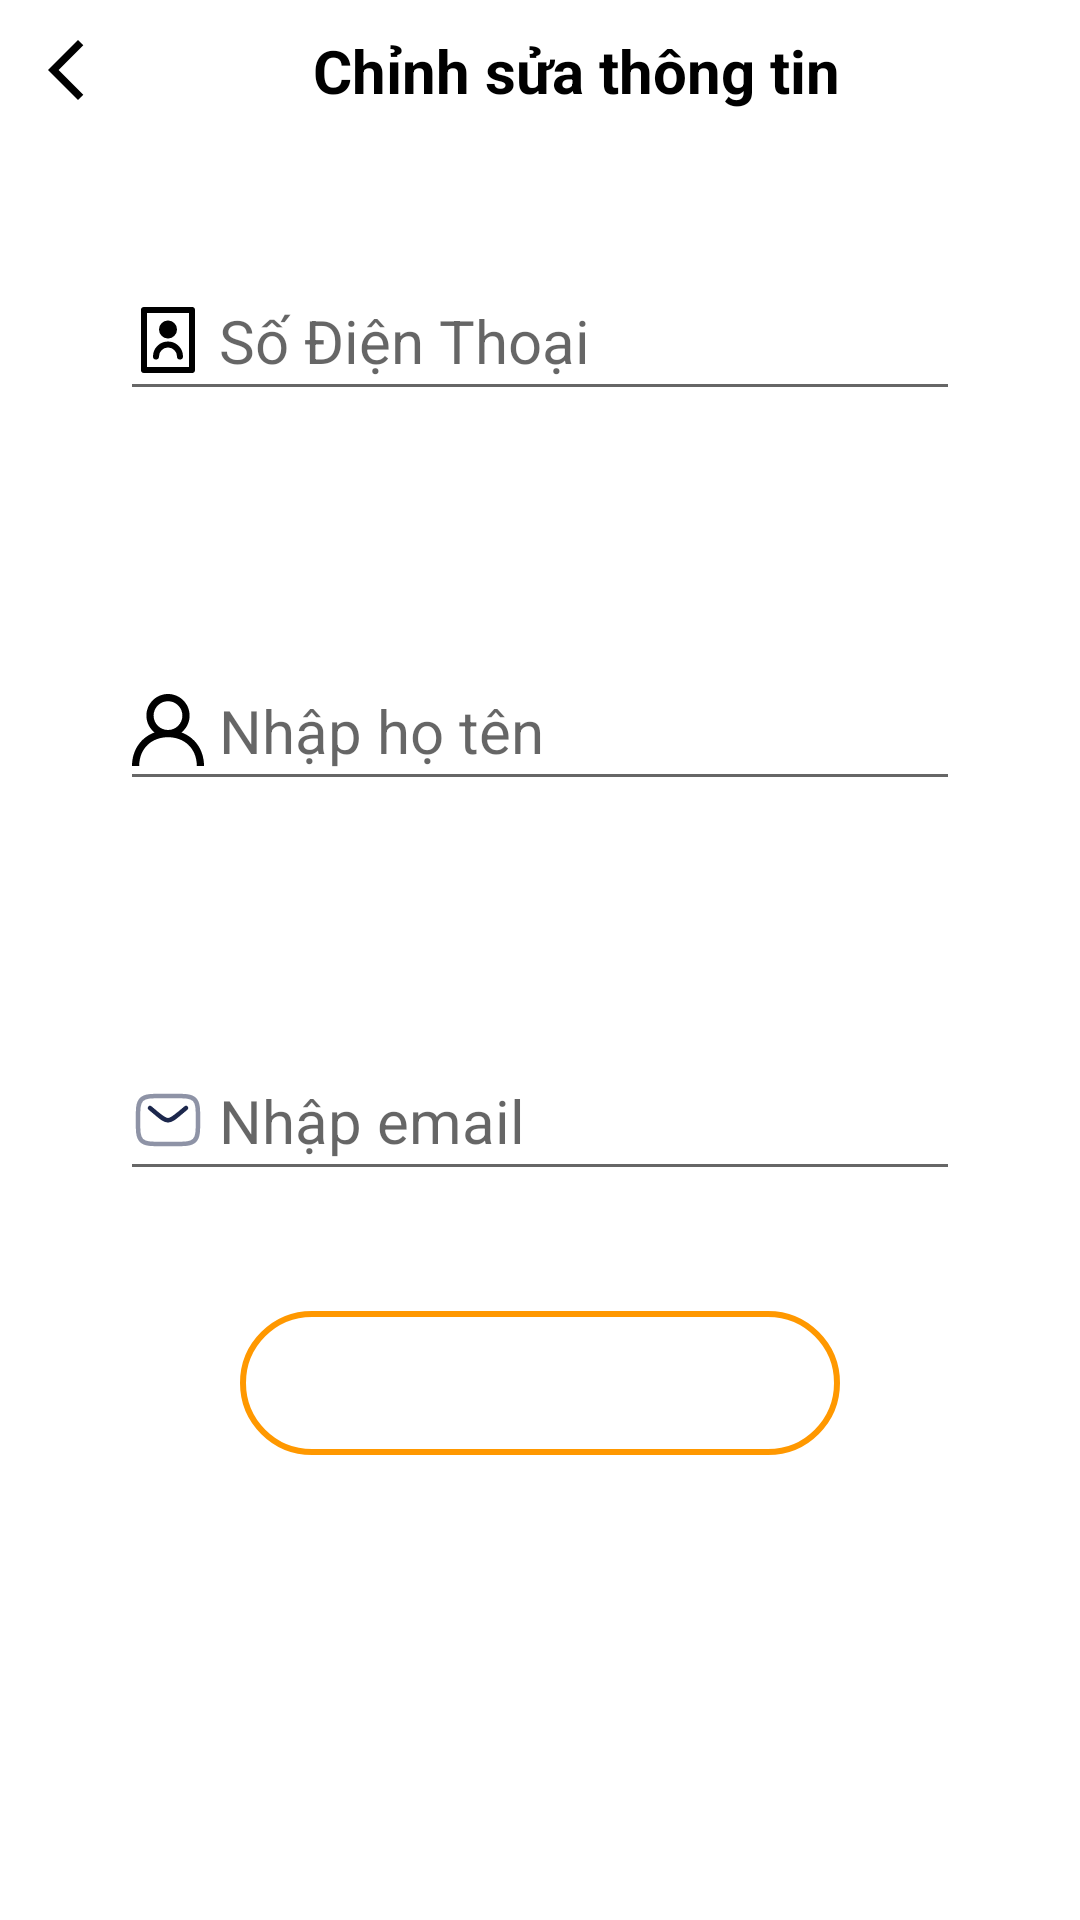

Where to tap for icons on this 1080*1920 app screen, as point (x, y):
back: point (65, 70)
